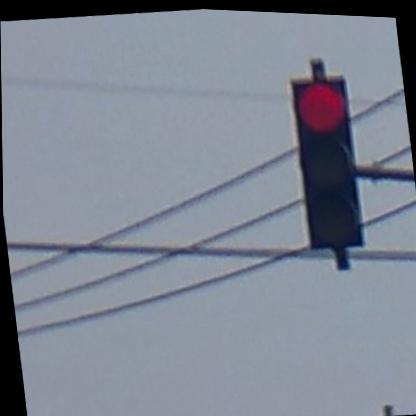red: (284, 69, 368, 250)
